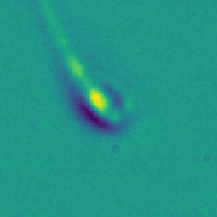normal: (31, 1, 92, 80)
